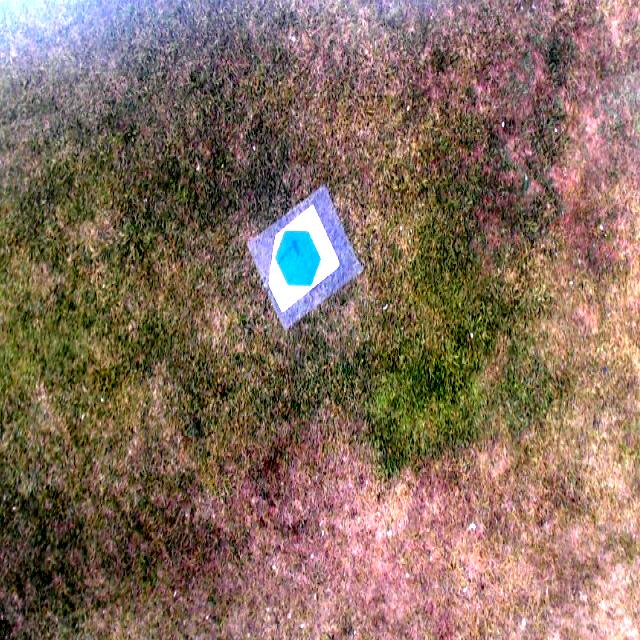blue_hexagon: (275, 229, 321, 288)
